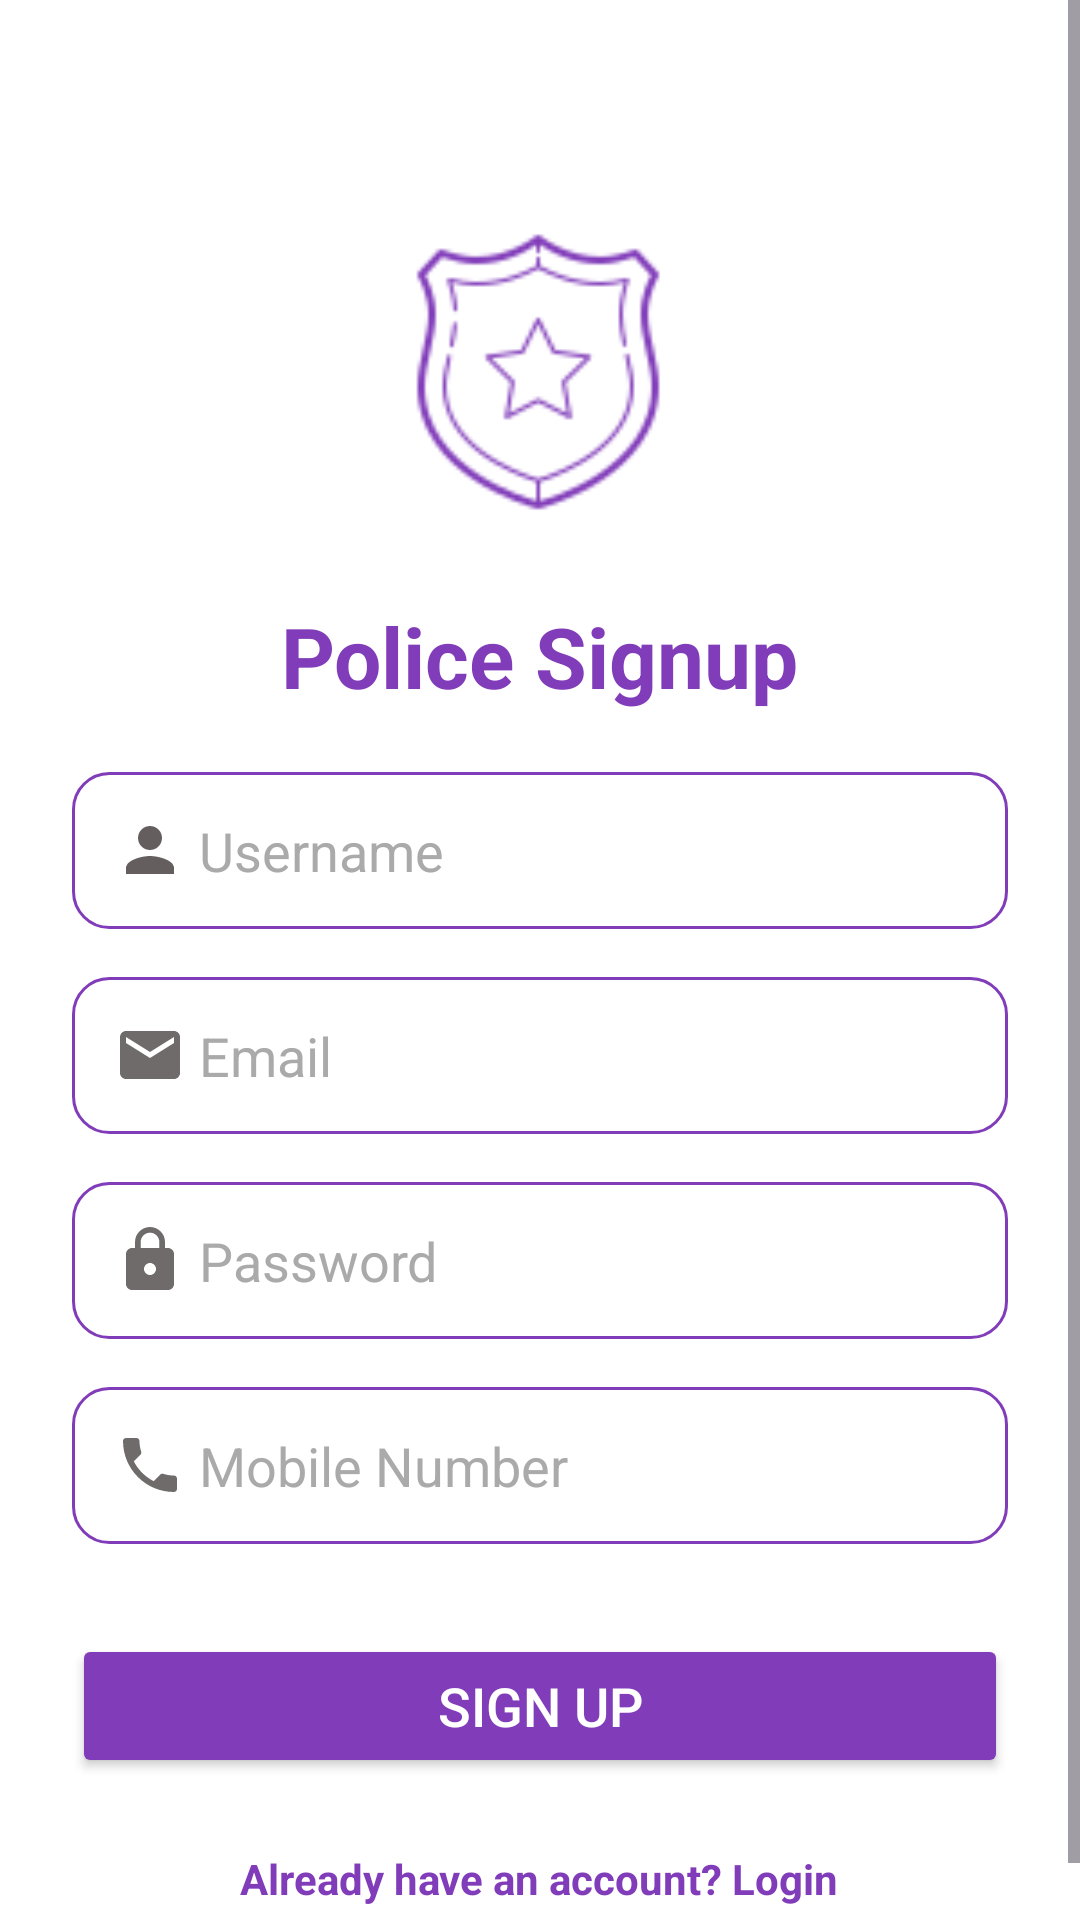

Point at icon controls on the screen. Image size 1080×1920, points as point (x, y).
police badge: point (538, 372)
